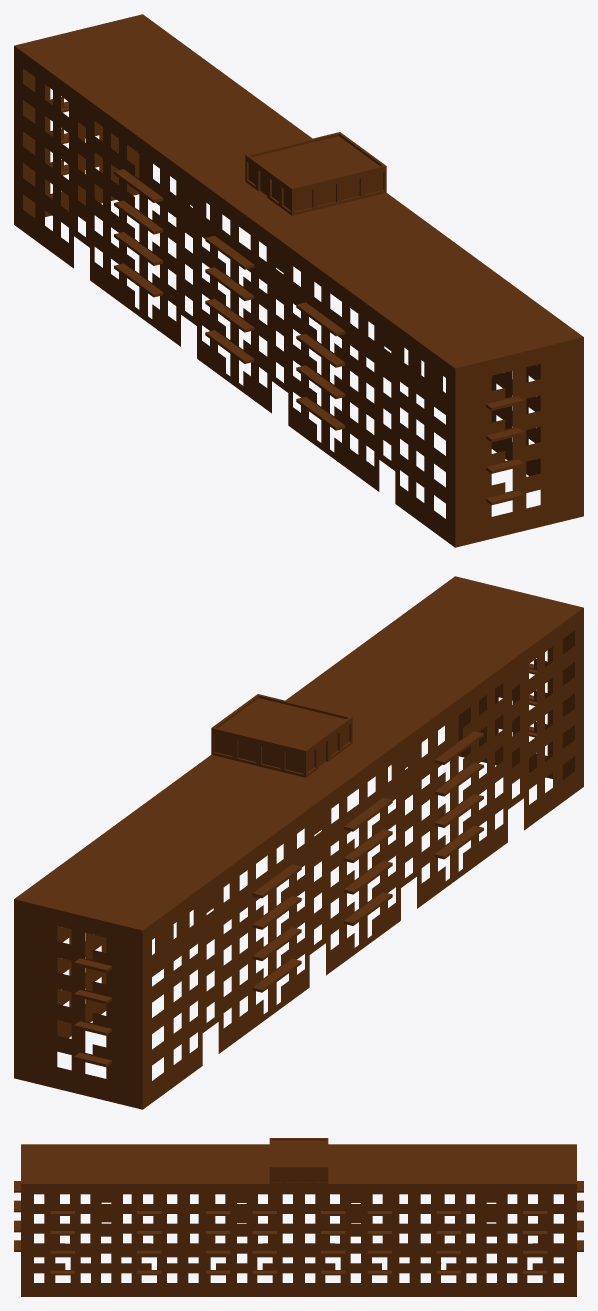
The model's file is Khrushchyovka.fbx.
The picture shows the model from 3 angles, top to bottom: view 1: azimuth 30°, elevation 25°; view 2: azimuth 150°, elevation 25°; view 3: azimuth 270°, elevation 25°; orthographic projection. The views are drawn at different scales.
Visible parts, largest first — view 1: Khrushchyovka, roof, upper floor; view 2: Khrushchyovka, roof, upper floor; view 3: Khrushchyovka, roof, upper floor.
Boxes of the visible parts, x1=… form: Khrushchyovka: x1=14, y1=46, x2=583, y2=547; roof: x1=14, y1=14, x2=583, y2=368; upper floor: x1=245, y1=132, x2=386, y2=215; Khrushchyovka: x1=14, y1=608, x2=583, y2=1109; roof: x1=14, y1=576, x2=583, y2=930; upper floor: x1=211, y1=694, x2=352, y2=777; Khrushchyovka: x1=14, y1=1181, x2=583, y2=1296; roof: x1=21, y1=1144, x2=576, y2=1183; upper floor: x1=269, y1=1138, x2=328, y2=1183.
Bounding box in the file's own units: 1380 × 1833 × 7300.
